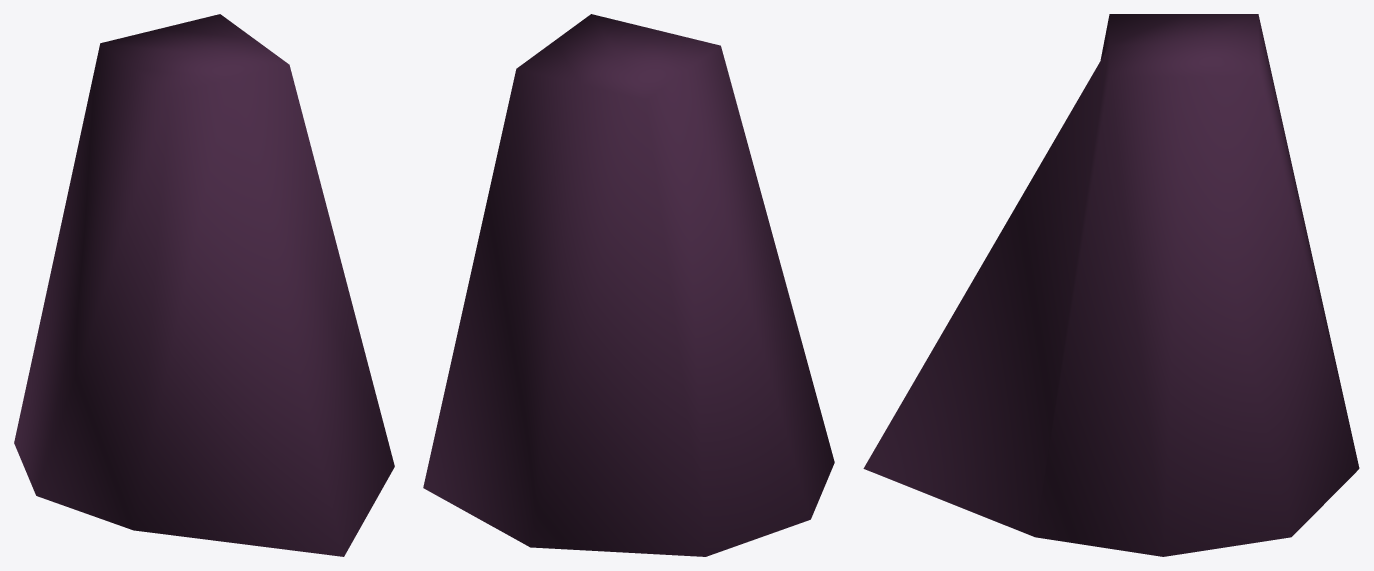
Rendered from playerBody.obj.
3 views of the same model, side by side, from view 1: azimuth 30°, elevation 25°; view 2: azimuth 150°, elevation 25°; view 3: azimuth 270°, elevation 25° (orthographic). The views are drawn at different scales.
Parts seen in each view (by area): view 1: PBody; view 2: PBody; view 3: PBody.
Part boxes in pixels (x1,y1,x2,y2): PBody: (14,14,394,556); PBody: (423,14,834,556); PBody: (863,14,1359,556).
Bounding box in the file's own units: 1.74 × 1.94 × 2.07.
1 material, 1 textured.
